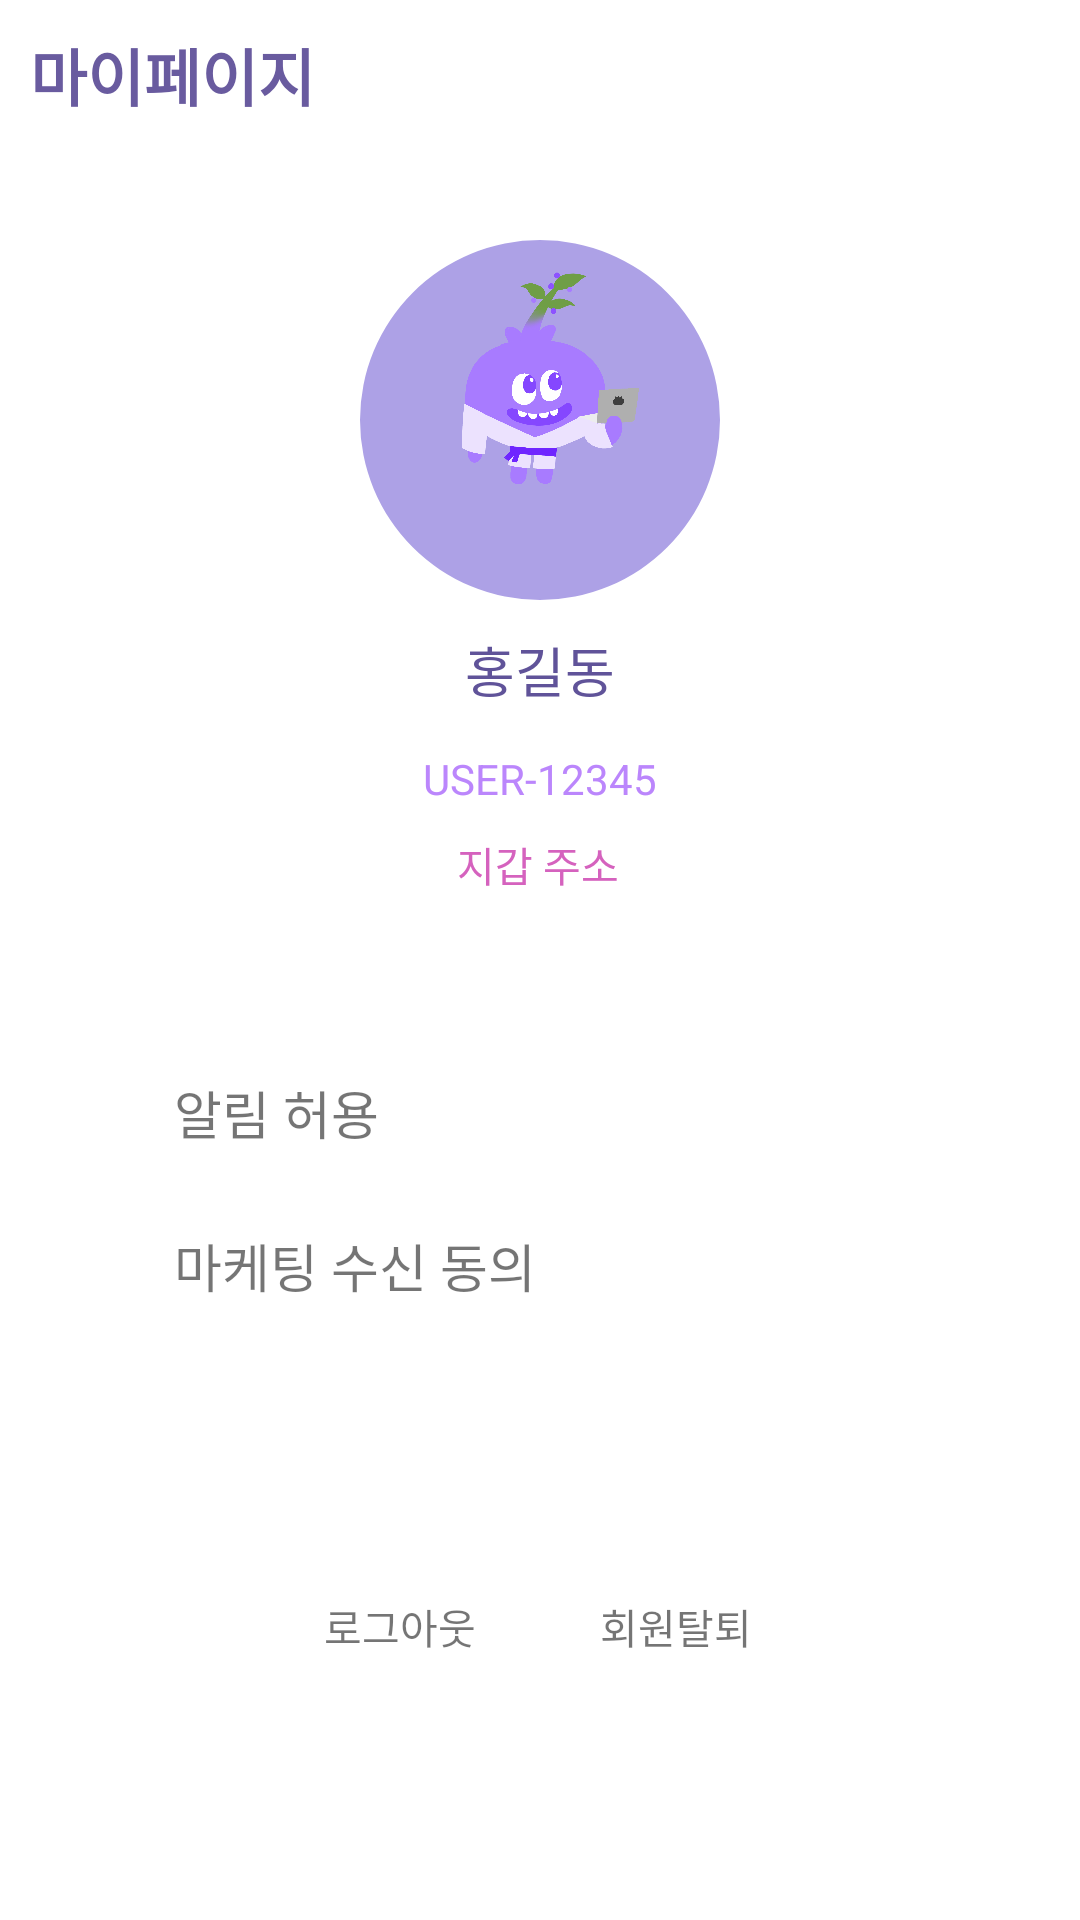

Icons on this 1080px×1920px Android screen, each with its box as (x1, y1, x2, y2):
profile: (360, 240, 720, 600)
